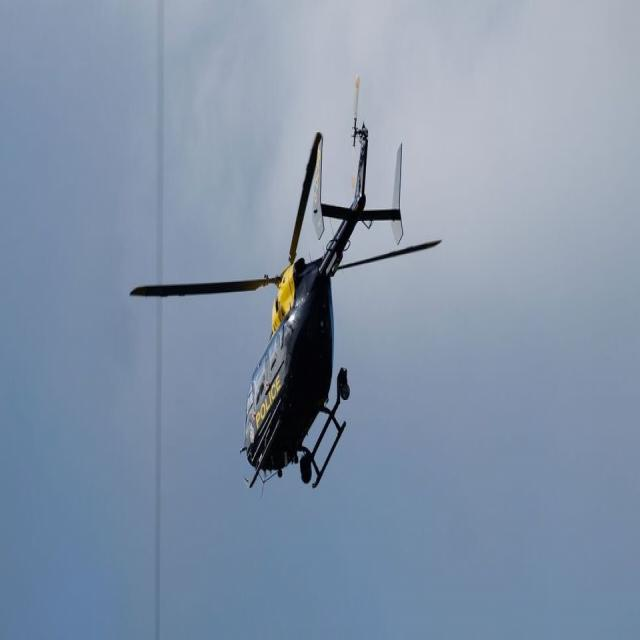helicopter: (136, 75, 445, 513)
